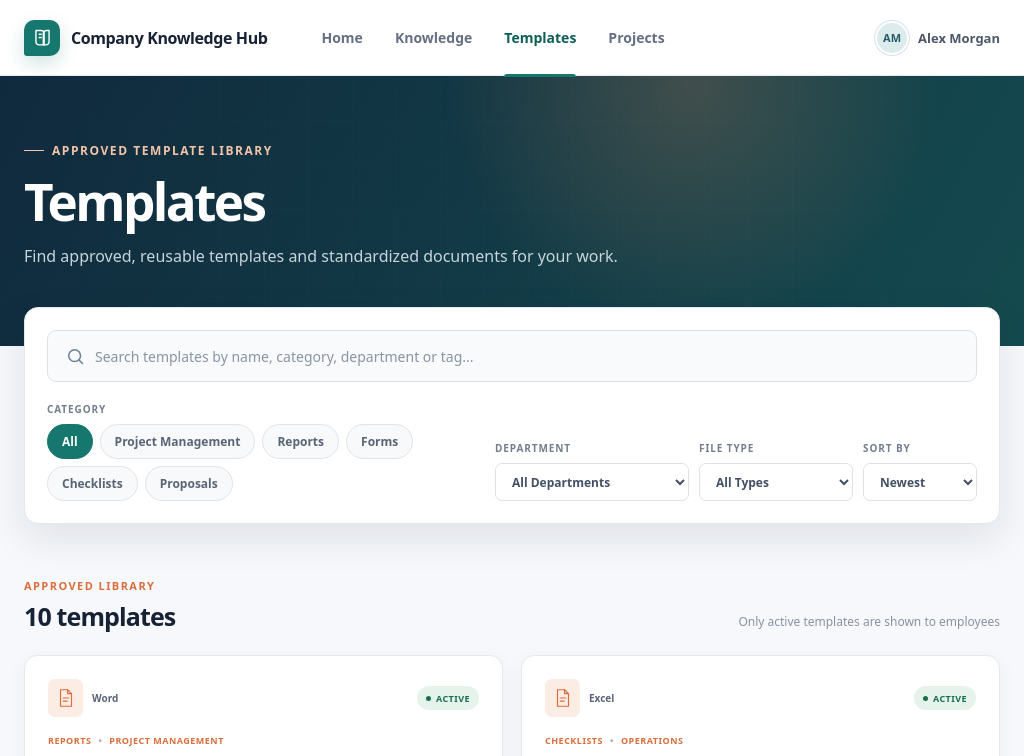
Test case: TemplatesPage › searches template names and metadata locally
Type "quotation" into the search field labelled "Search templates" at (536, 356), box [95, 331, 976, 381]
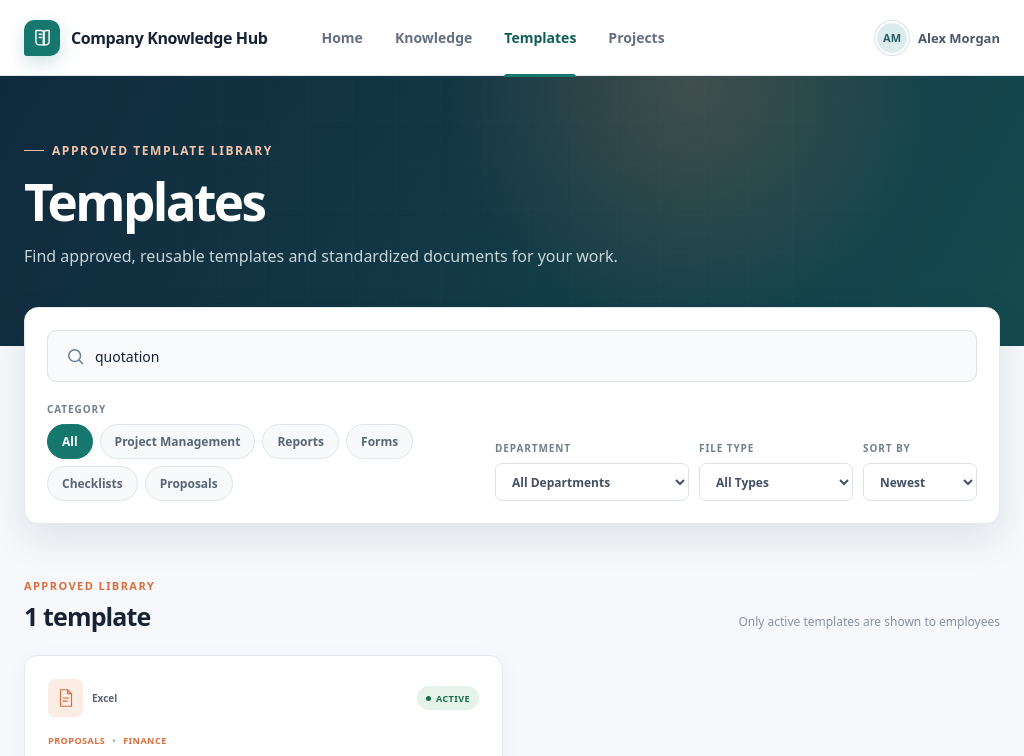
Now the heading "1 template" is shown, box [24, 599, 155, 633]
